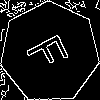F: (24, 27, 78, 75)
